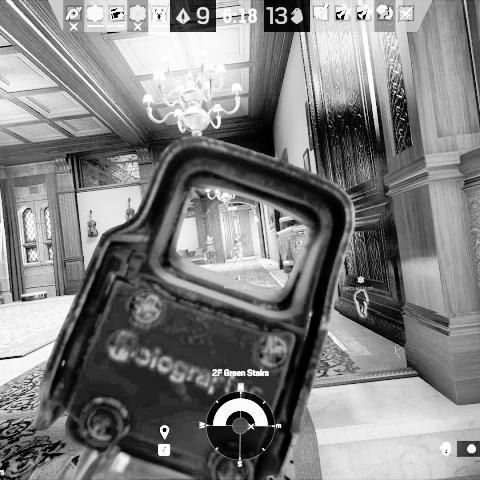Character: (230, 234, 245, 263)
Friend_label: (341, 274, 375, 293), (222, 272, 254, 292)
